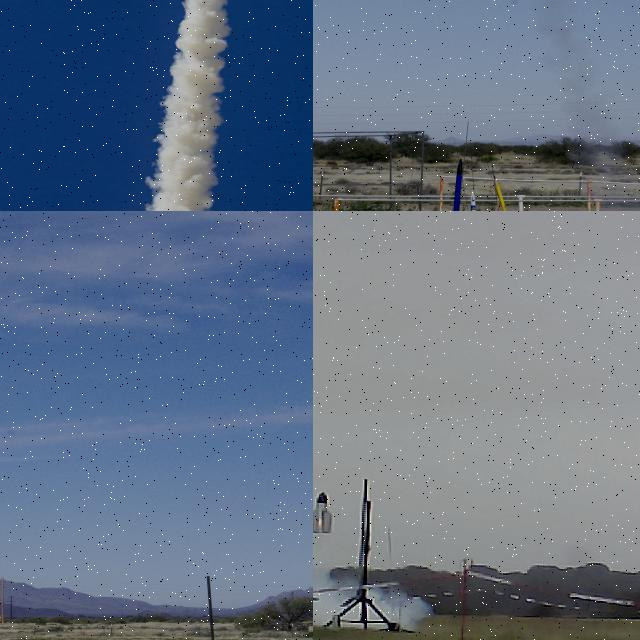Rocket: (492, 173, 520, 211), (445, 158, 464, 211), (313, 491, 333, 534), (465, 190, 484, 211)
